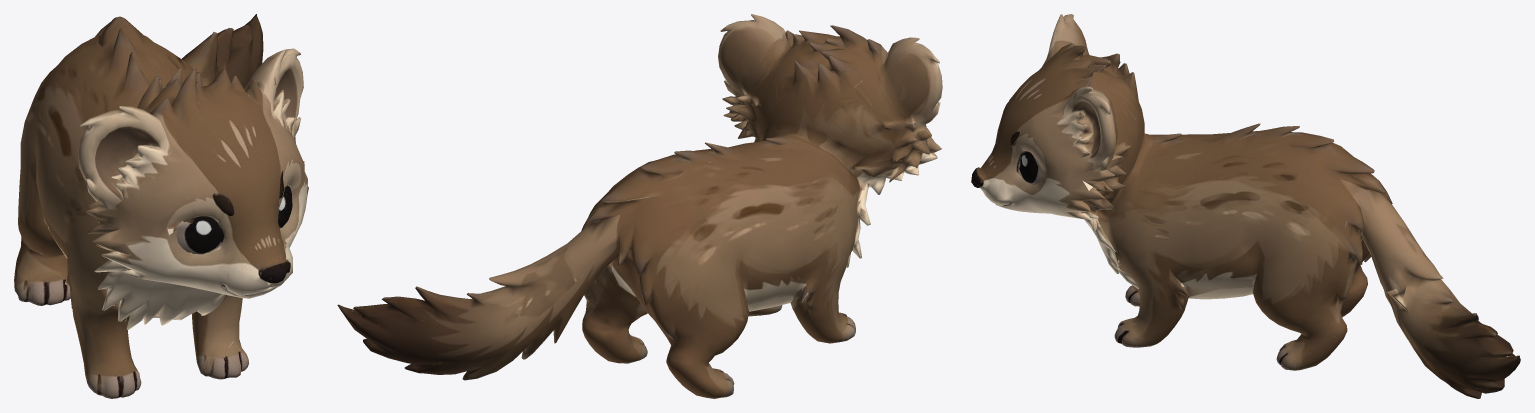
3 views of the same model, side by side, from view 1: azimuth 30°, elevation 25°; view 2: azimuth 150°, elevation 25°; view 3: azimuth 270°, elevation 25° (orthographic). The views are drawn at different scales.
Bounding box in the file's own units: 0.7314 × 0.5205 × 0.9492.
Materials: 1 (1 with a texture image).
